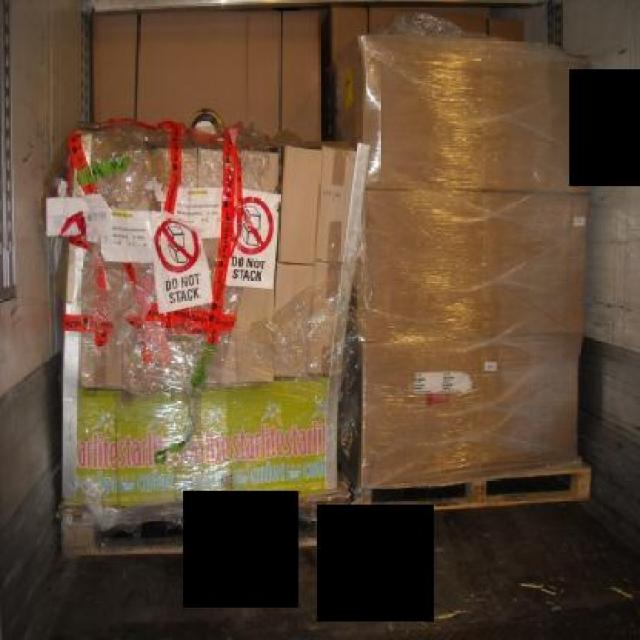plastic bag: (54, 120, 369, 545), (346, 7, 589, 516)
